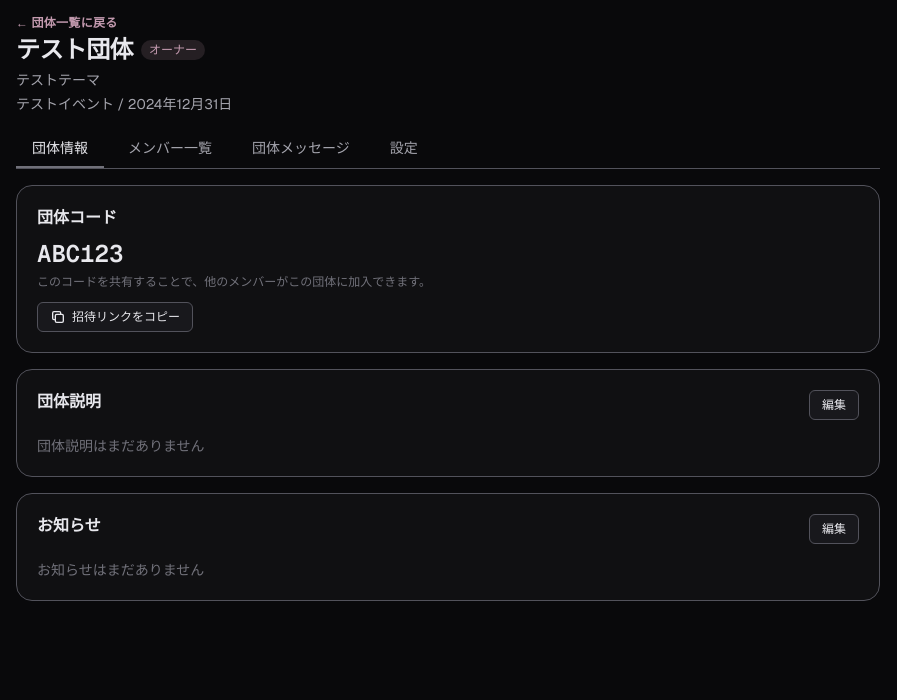
Test: GroupDetailPage › タブを切り替える
Expected: the heading "テスト団体" is shown, top-left (16, 34), bottom-right (133, 66)
// メッセージタブをクリック
Click the text "団体メッセージ" at (301, 148), box top-left (252, 139), bottom-right (350, 157)
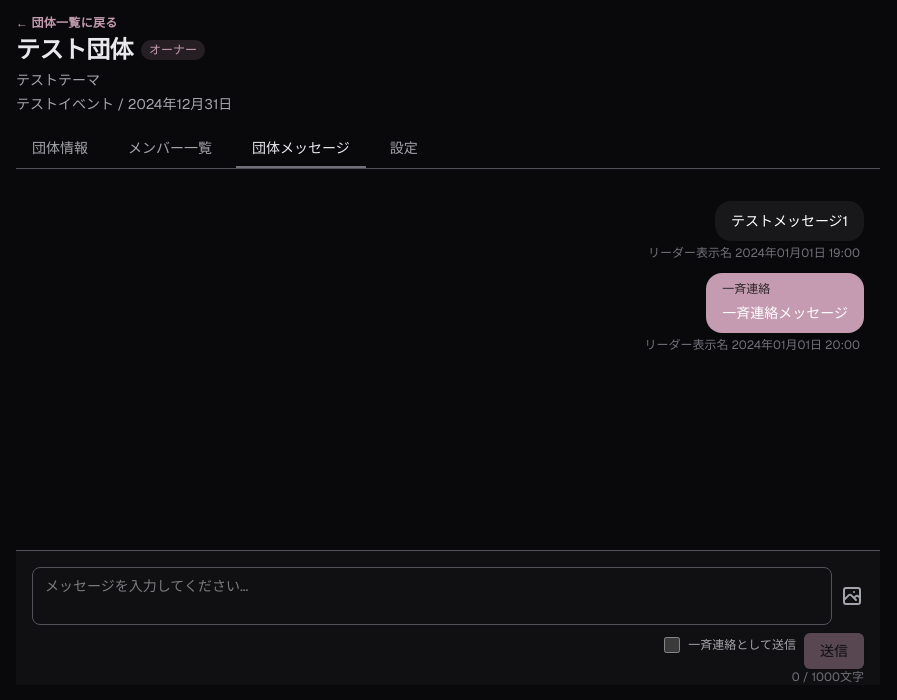
Expected: the text "テストメッセージ1" is shown, top-left (731, 212), bottom-right (848, 230)
